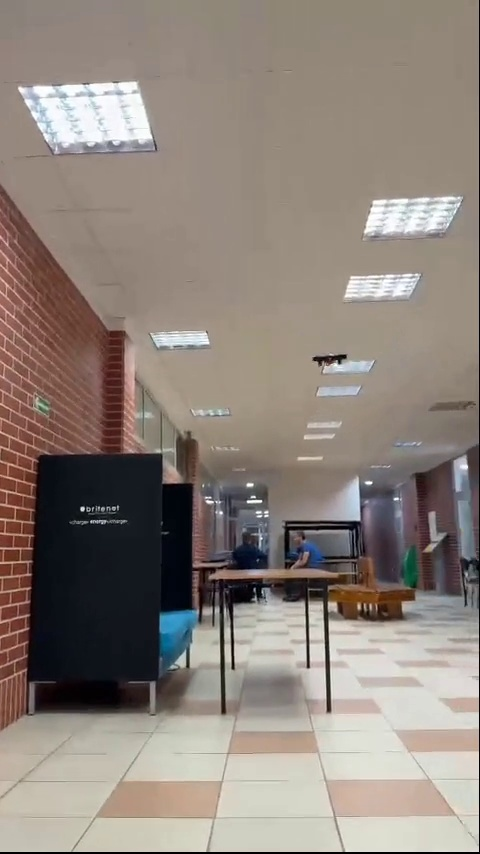drone: (314, 351, 346, 368)
no vest: (230, 527, 274, 571), (285, 533, 324, 574)
